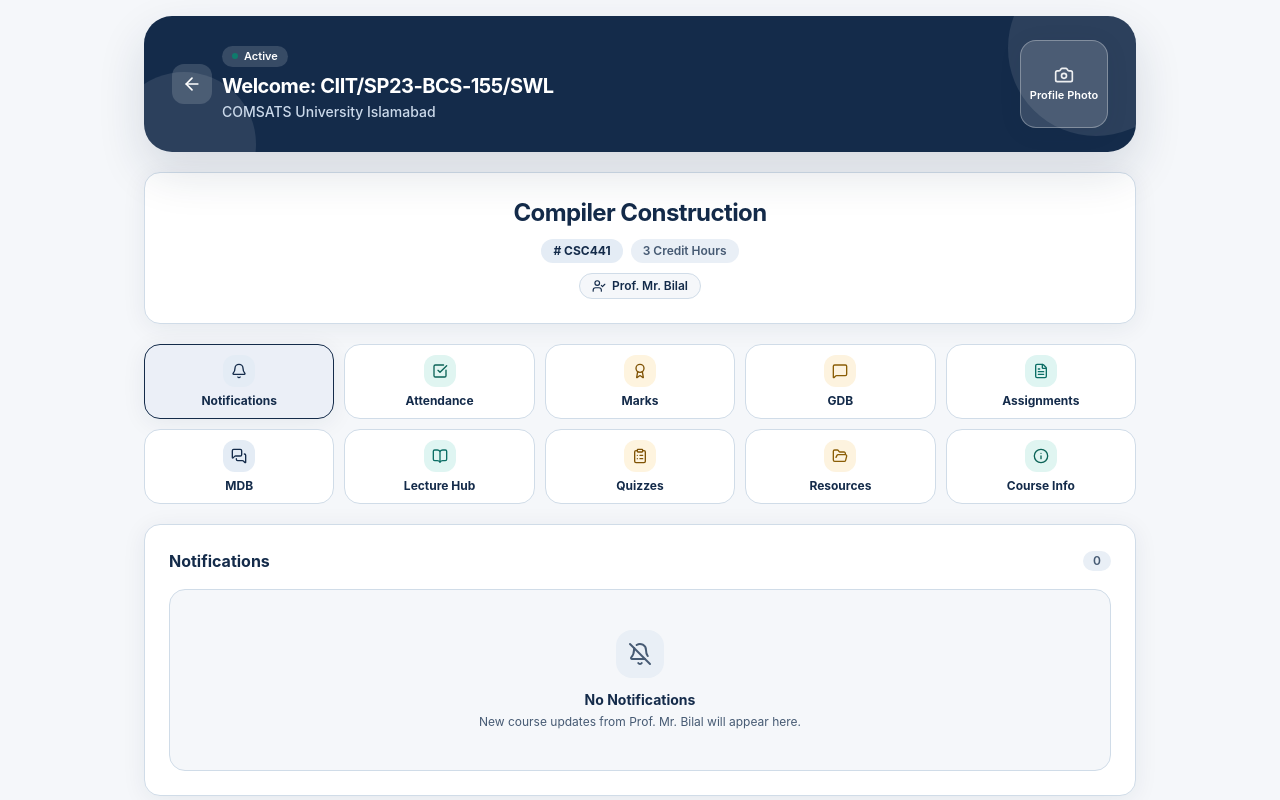
StudentCourseDetailPage › switches to Attendance with Class/Lab rings and filters, and shows Course Info syllabus
The image size is (1280, 800).
Step 1. Click the button "Attendance" → (440, 382), box [344,344,535,419]
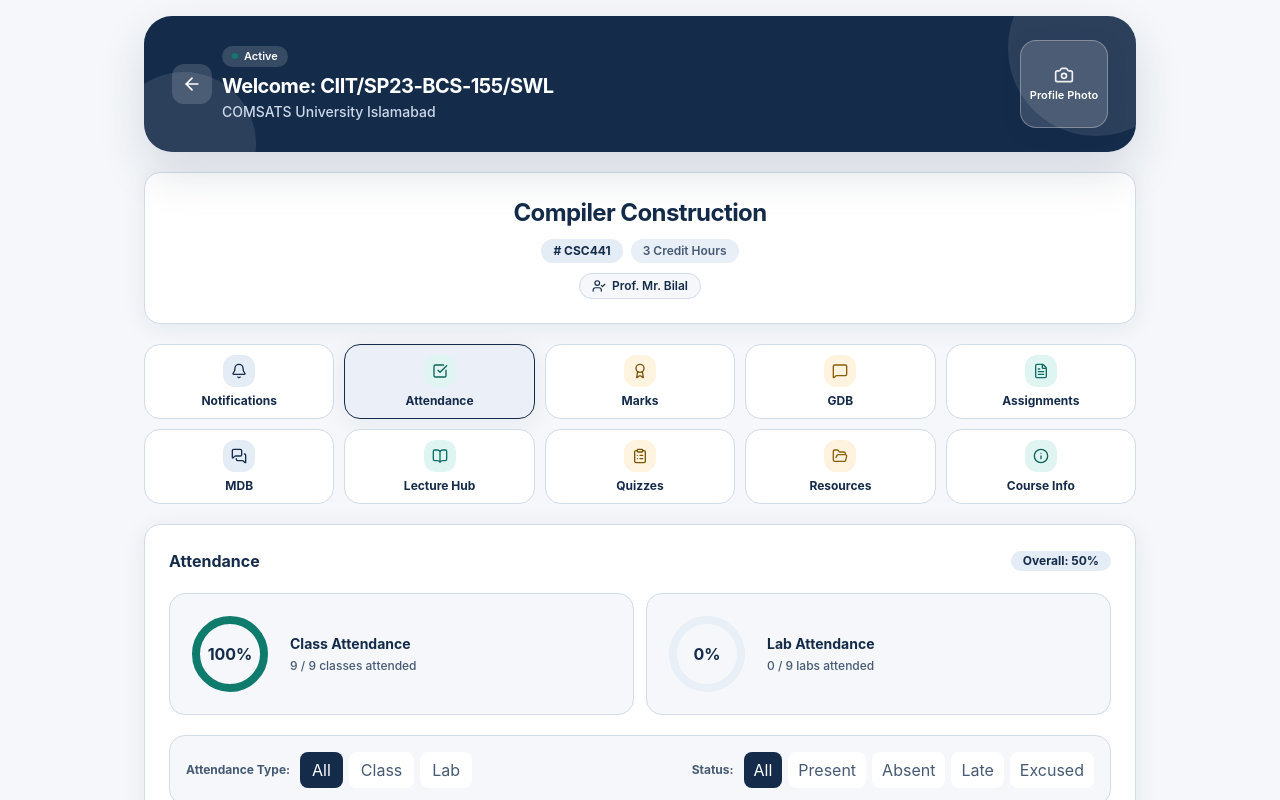
Check: the text "Class Attendance" is shown, box [290,634,416,654]
Check: the text "Lab Attendance" is shown, box [767,634,874,654]
Check: the text "Attendance Type:" is shown, box [186,762,290,778]
Step 2. Click the button "Absent" → (909, 770), box [872,752,945,788]
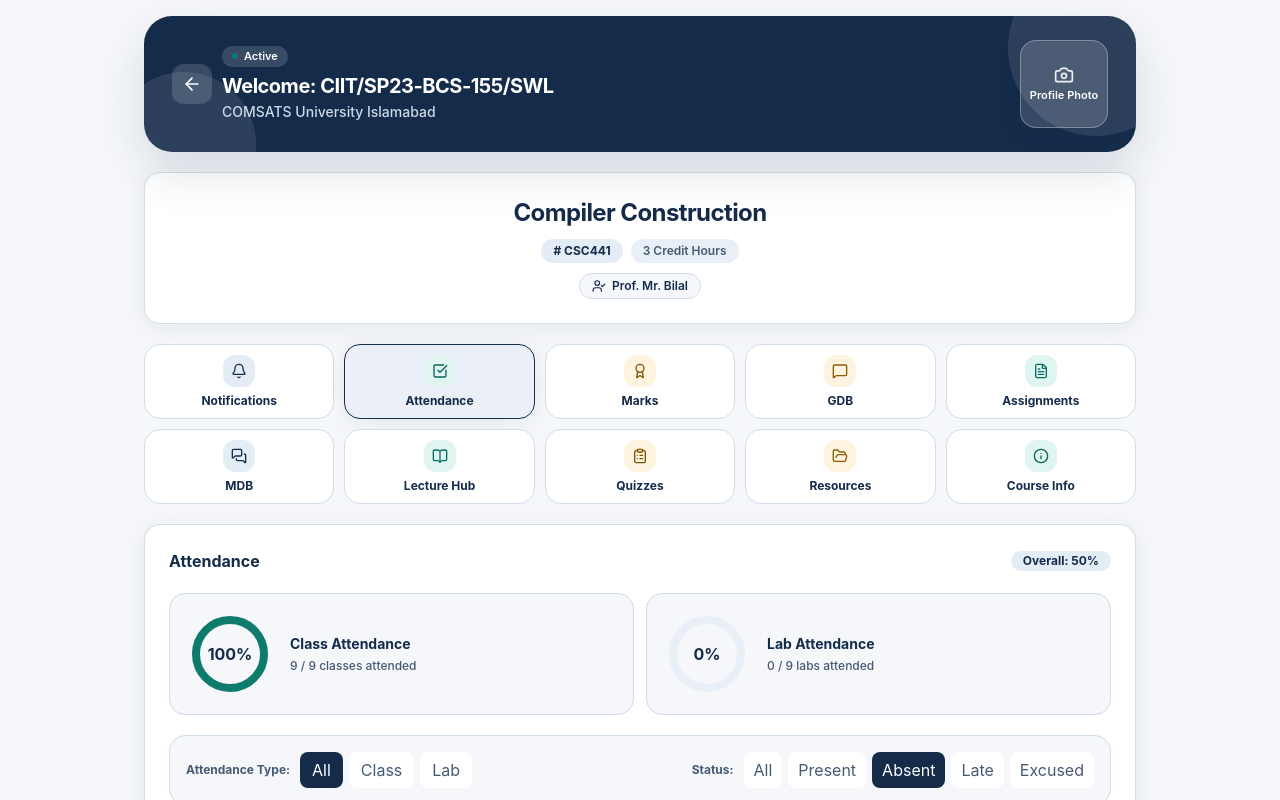
Step 3. Click the button "Course Info" → (1041, 466), box [946,429,1136,504]
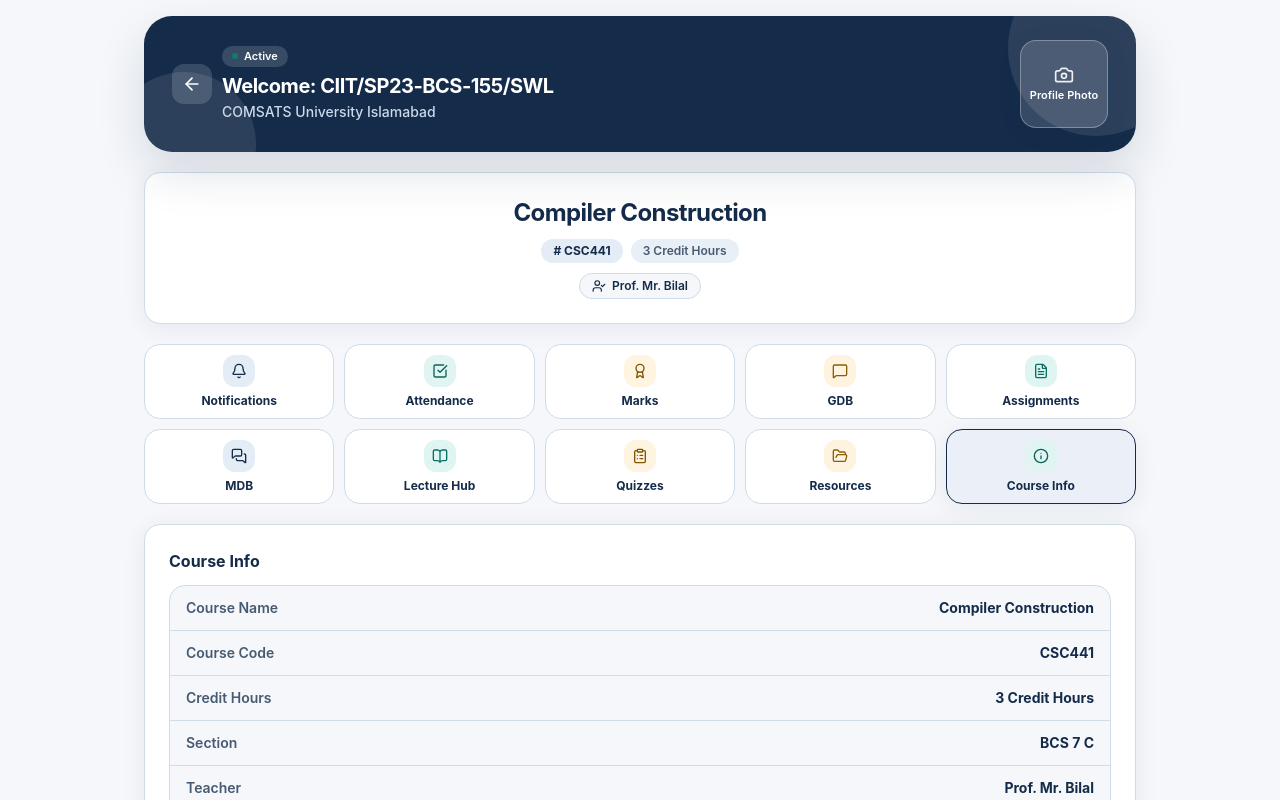
Check: the text "Course Name" is shown, box [186,598,278,618]
